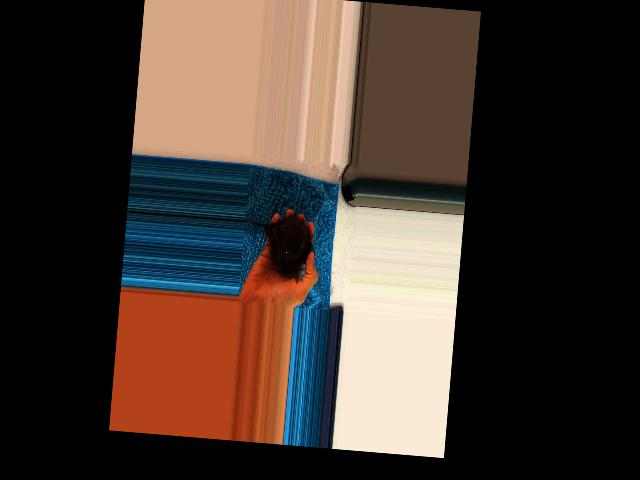beet: (240, 212, 317, 274)
